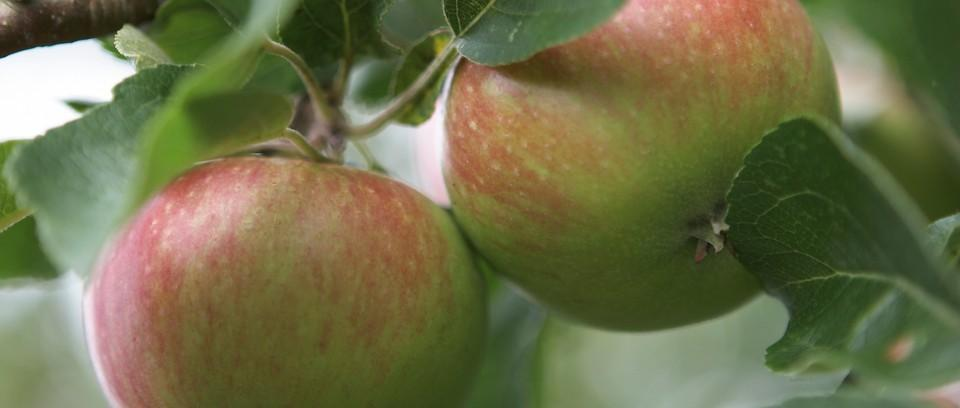apple: (437, 2, 852, 329), (77, 142, 483, 392)
